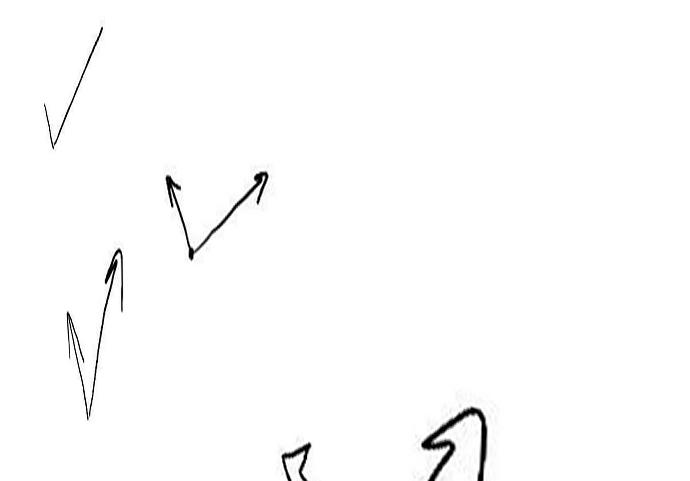arrow: (88, 248, 125, 415), (197, 168, 269, 250), (61, 310, 91, 417), (162, 173, 192, 252)
arrownohead: (56, 24, 103, 144), (39, 103, 54, 147)
